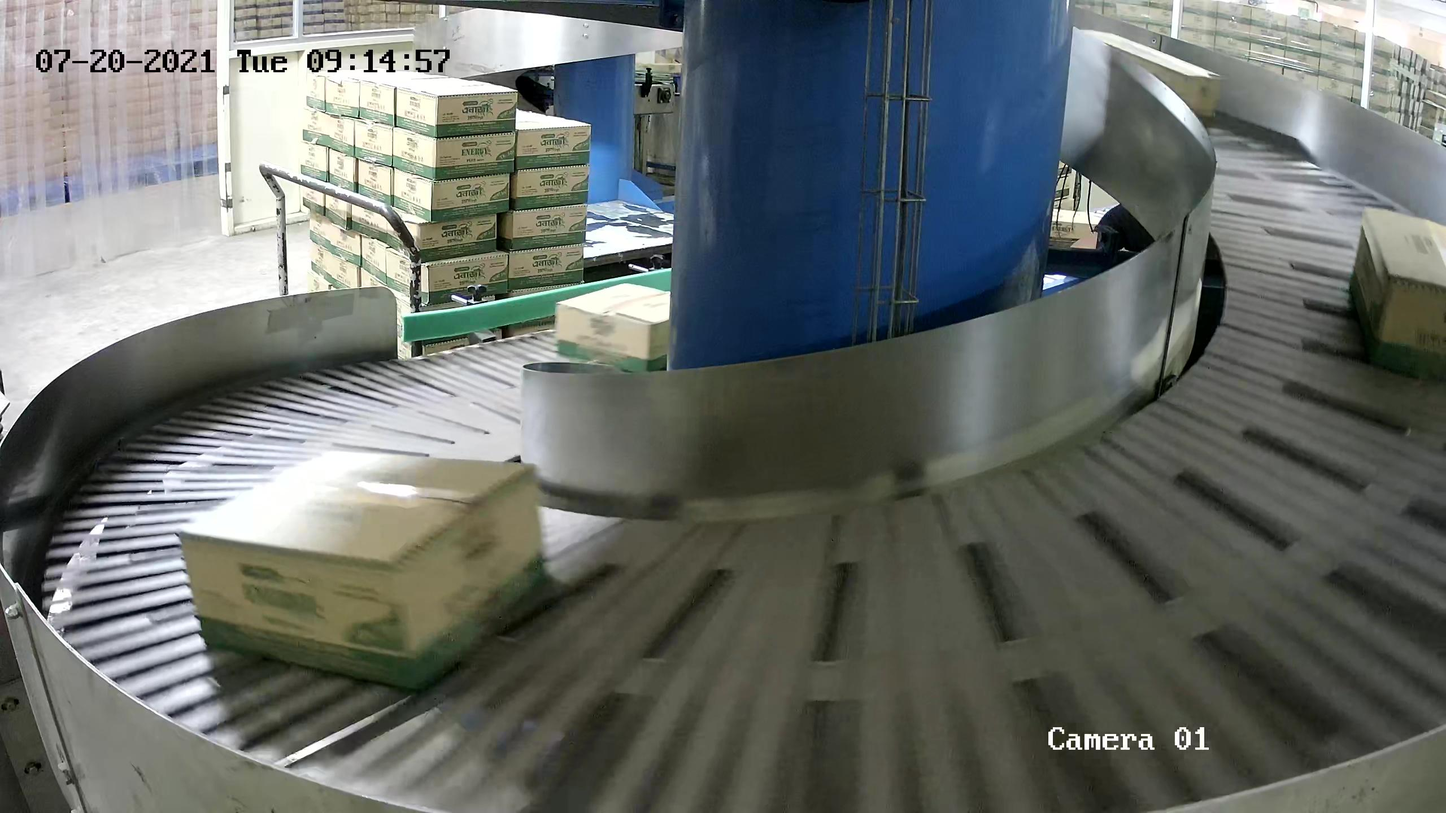Box: (177, 448, 558, 690), (1347, 212, 1446, 375), (555, 281, 698, 384)
